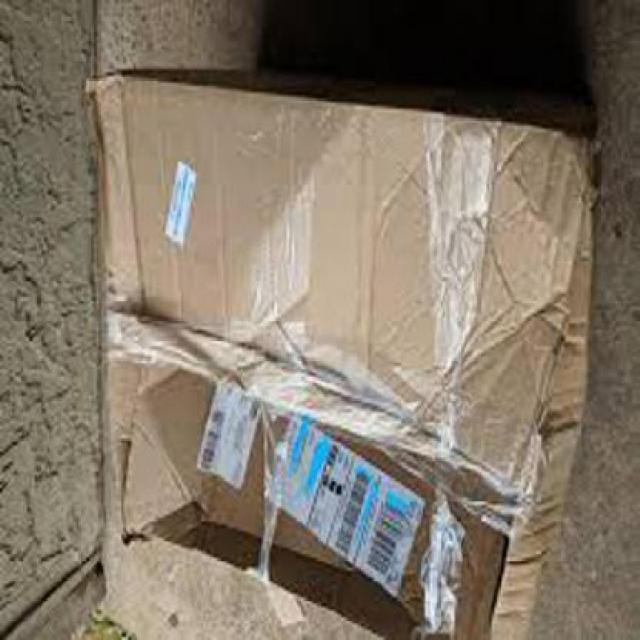defect: (81, 63, 604, 605)
